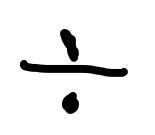div: (20, 29, 128, 114)
